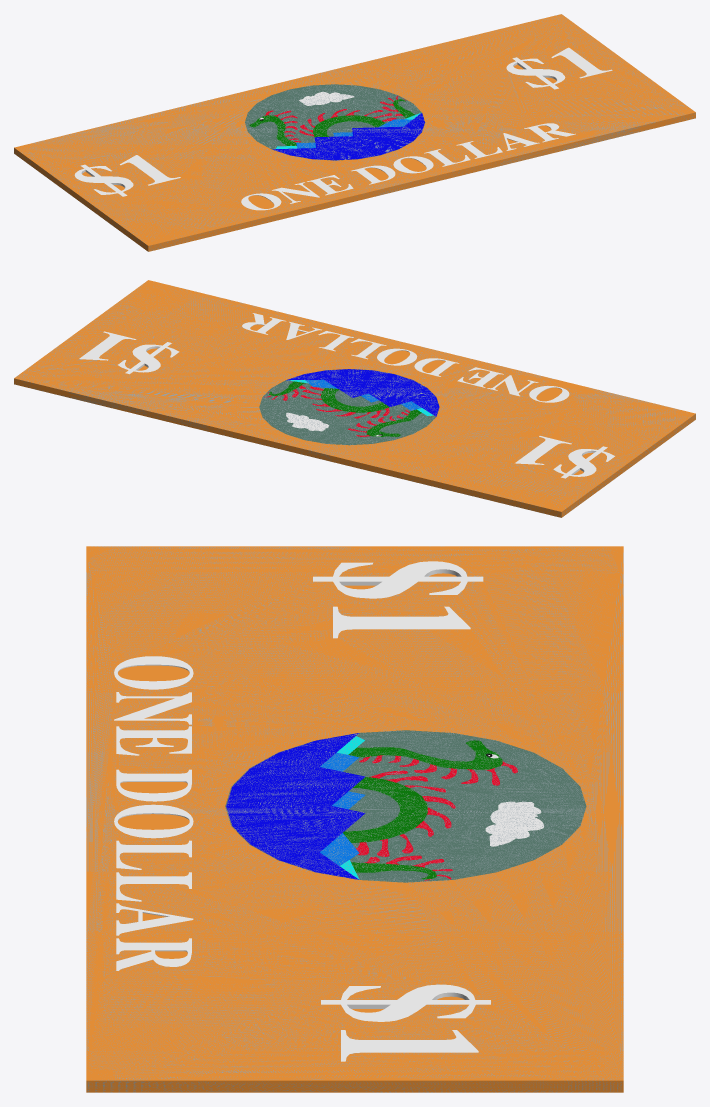
The model's file is NessieOrange.dae.
3 views of the same model, one above another, from view 1: azimuth 30°, elevation 25°; view 2: azimuth 150°, elevation 25°; view 3: azimuth 270°, elevation 25° (orthographic). The views are drawn at different scales.
Parts seen in each view (by area): view 1: SketchUp (×13); view 2: SketchUp (×12); view 3: SketchUp (×21).
Boxes of the visible parts, x1=… form: SketchUp (×13): x1=14, y1=14, x2=695, y2=251; SketchUp (×12): x1=14, y1=280, x2=695, y2=517; SketchUp (×21): x1=86, y1=546, x2=623, y2=1092.
Size of the model in its own units: 6.14 by 2.61 by 0.0676.
